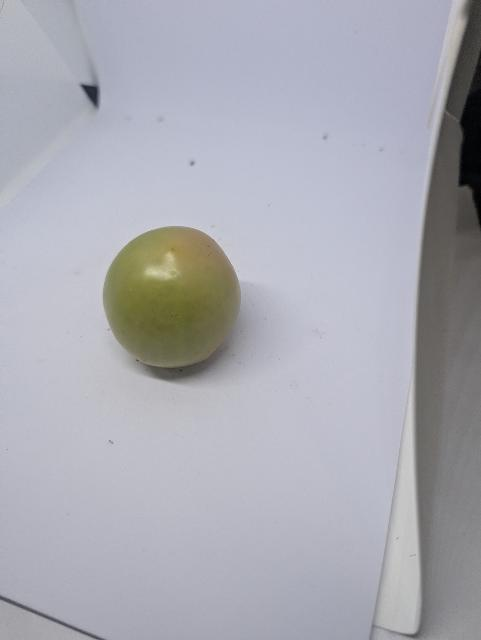green: (67, 220, 246, 388)
